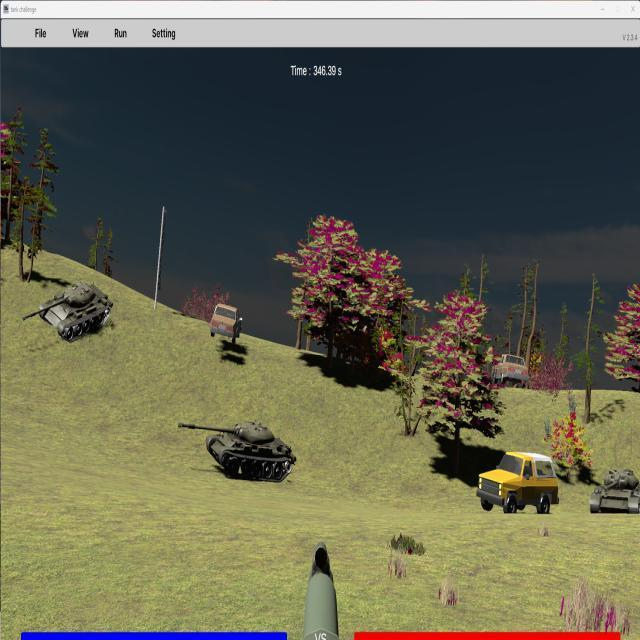Tank: (178, 420, 297, 483), (23, 281, 114, 343), (589, 468, 640, 517)
car: (477, 452, 560, 515), (210, 303, 244, 342), (490, 354, 529, 386)
